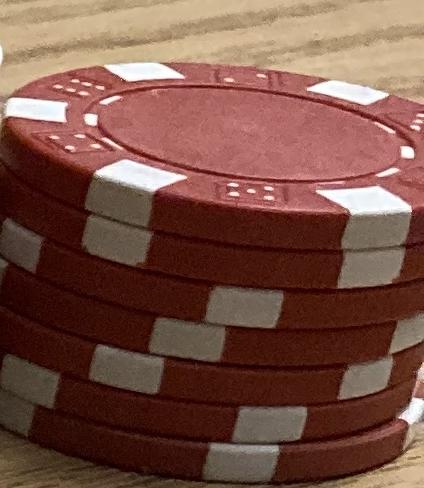Chip: (1, 1, 424, 488)
